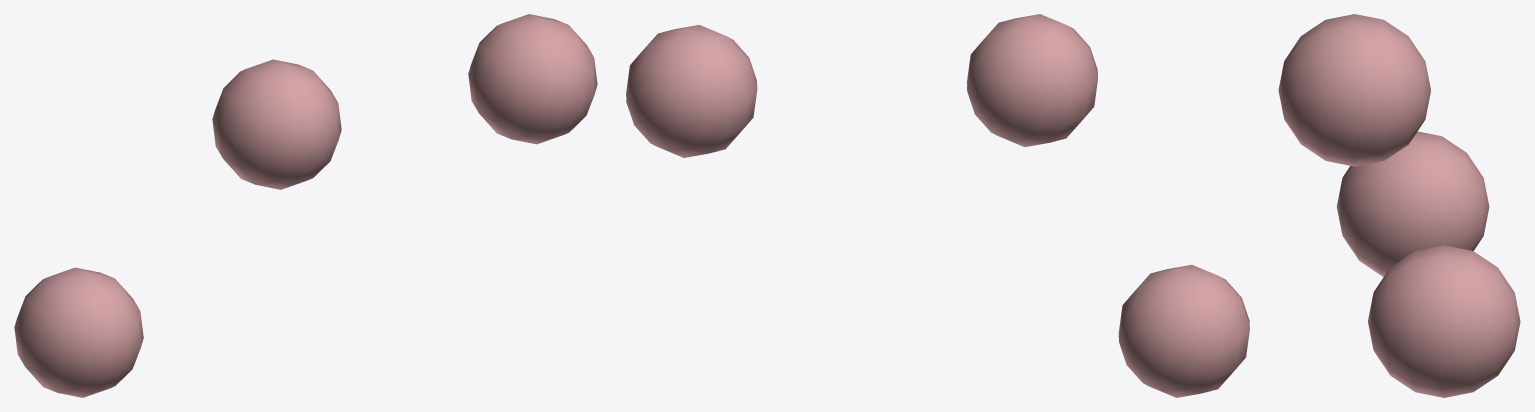
3 views of the same model, side by side, from view 1: azimuth 30°, elevation 25°; view 2: azimuth 150°, elevation 25°; view 3: azimuth 270°, elevation 25° (orthographic). The views are drawn at different scales.
Parts seen in each view (by area): view 1: ZA_32f33961725a6380; view 2: ZA_32f33961725a6380; view 3: ZA_32f33961725a6380.
Part boxes in pixels (x1,y1,x2,y2): ZA_32f33961725a6380: [14, 14, 597, 397]; ZA_32f33961725a6380: [626, 14, 1249, 397]; ZA_32f33961725a6380: [1278, 14, 1520, 397].
Bounding box in the file's own units: 0.0133 × 0.00661 × 0.00412.
